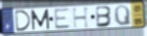B: (95, 5, 113, 29)
D: (14, 9, 32, 32)
E: (53, 7, 72, 30)
H: (71, 6, 91, 30)
M: (30, 8, 51, 31)
Q: (113, 4, 133, 27)
